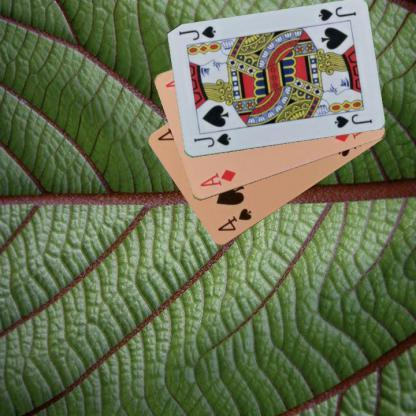4s: (214, 206, 252, 233)
Ad: (197, 166, 237, 188)
Js: (315, 4, 358, 23), (190, 131, 232, 150)
